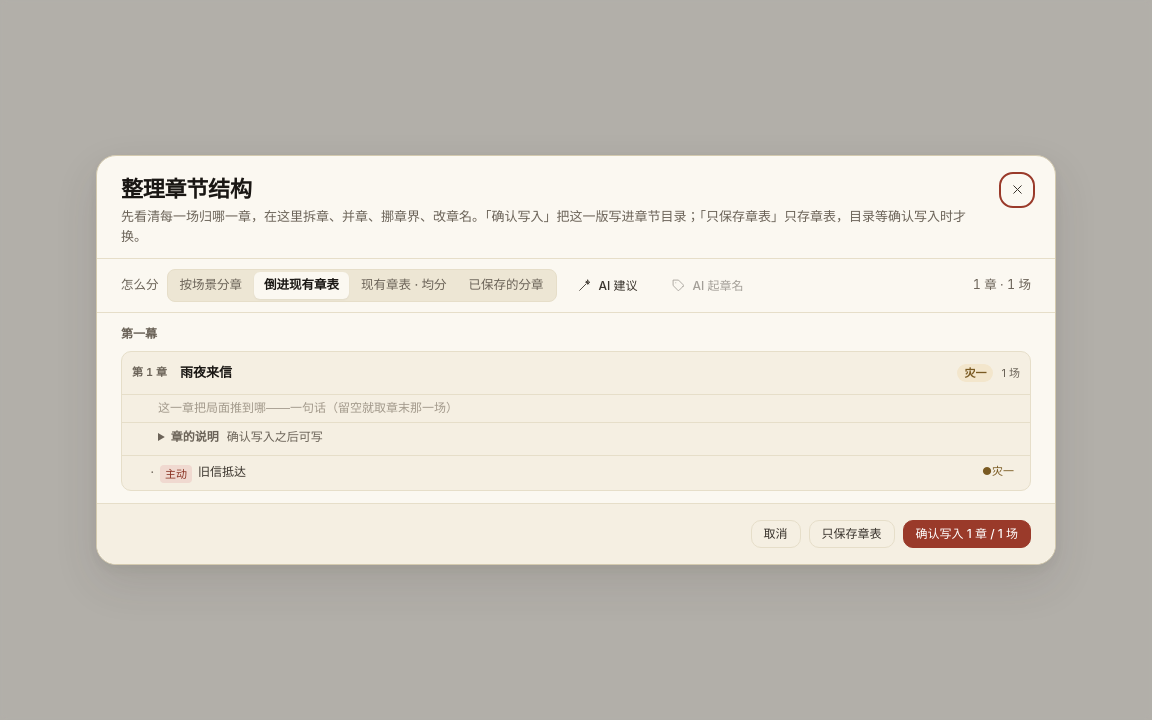
Test: 分章面板 · 物化闸门衔接 › 确认时后端返回更新后的闸门详情：保留预览并把具体阻断项转成可操作提示
Click the button with test id "chapter-plan-confirm" at point(967, 534), box [903,520,1031,548]
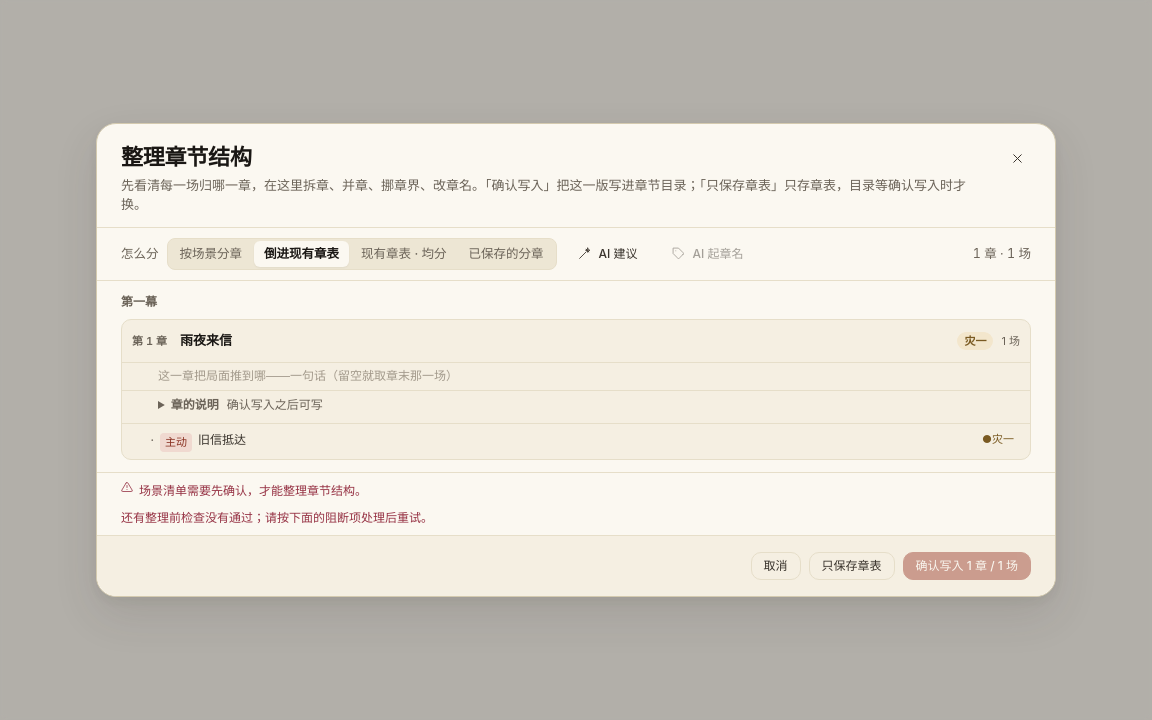
Expected: the text "场景清单需要先确认，才能整理章节结构。" is shown, [121,480,367,498]
Expected: the button with test id "chapter-plan-confirm" is disabled, [903,552,1031,580]
